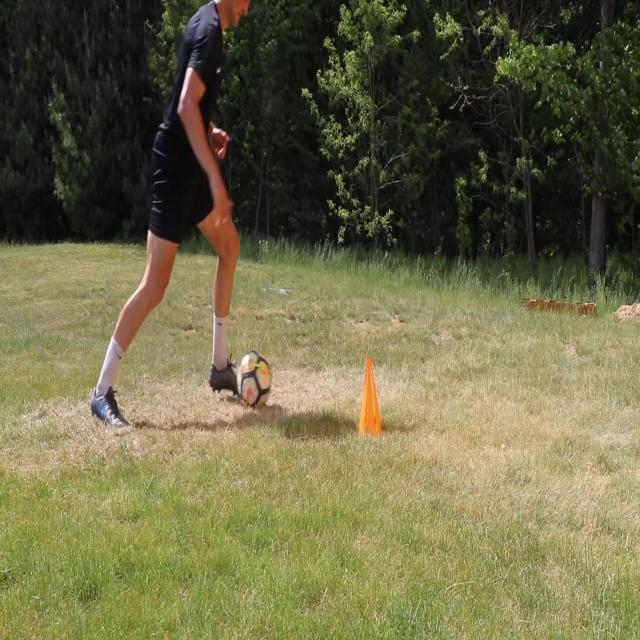Soccer Ball: (238, 349, 272, 414)
